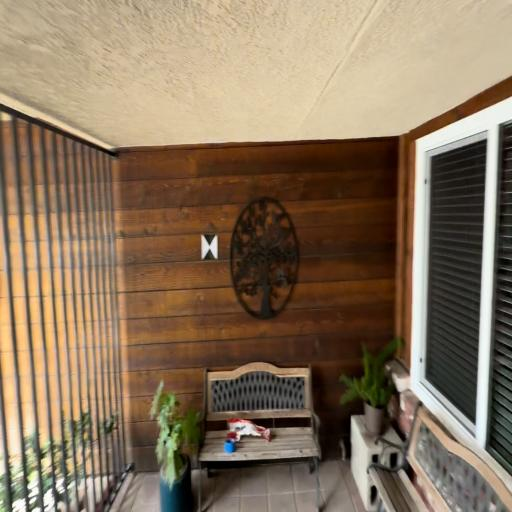target: (201, 234, 218, 258)
